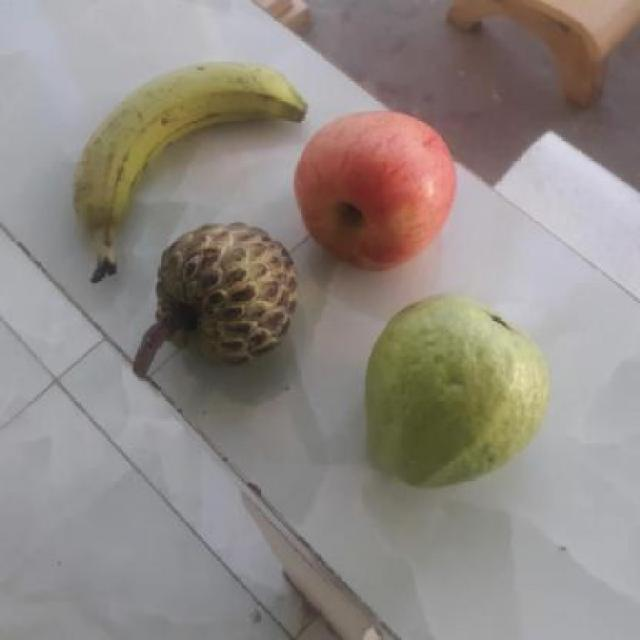apple: (289, 110, 463, 272)
banana: (65, 57, 322, 257)
guava: (365, 301, 557, 485)
sugar apple: (142, 222, 306, 373)
